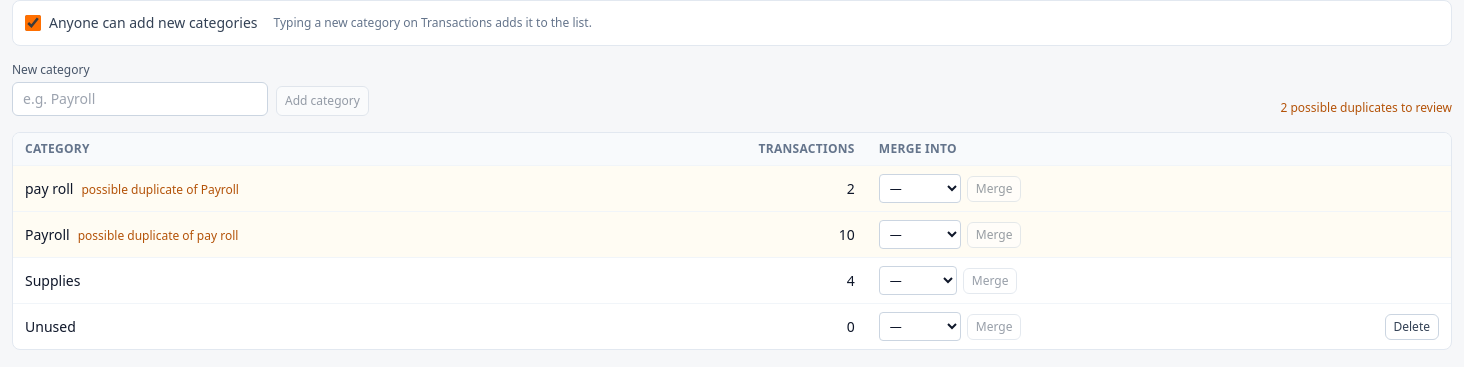
TransactionCategoriesManager › merges a duplicate into the right name and folds its count in
The width and height of the screenshot is (1464, 367).
Select "Payroll" in the dropdown named "merge pay roll into" at (920, 188), box x1=879 y1=174 x2=961 y2=203
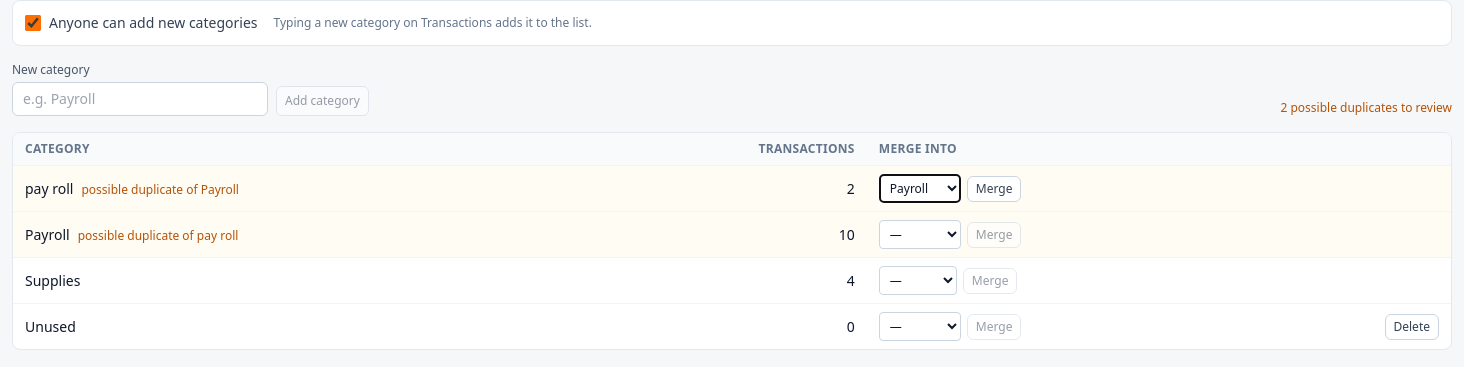
Click the 1st button "Merge" at (994, 188), box x1=967 y1=176 x2=1021 y2=202
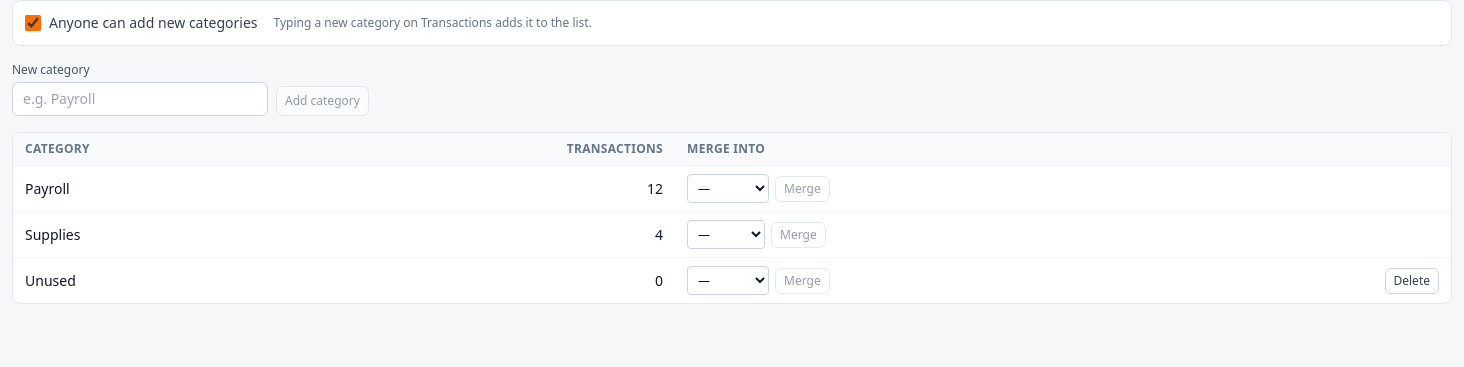
Check: the cell "pay roll" is gone
Check: the text "12" is shown, box x1=294 y1=166 x2=675 y2=212
